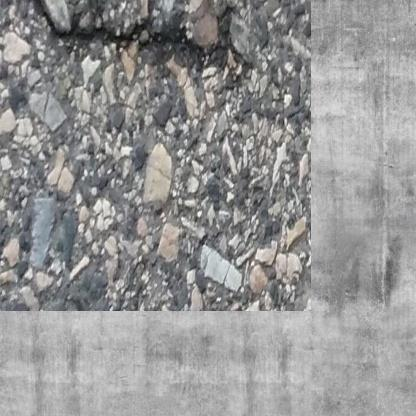Cracks: (11, 0, 224, 66)
